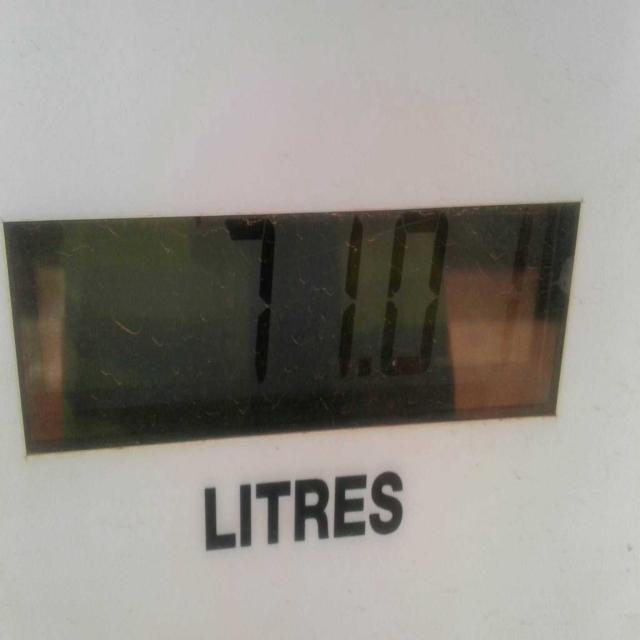.: (354, 344, 399, 426)
0: (379, 212, 451, 386)
1: (318, 210, 371, 394), (491, 210, 544, 381)
7: (220, 217, 292, 395)
